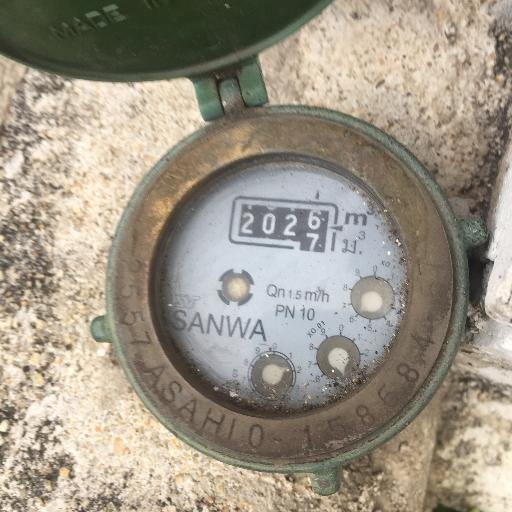0: (257, 205, 283, 240)
2: (279, 207, 303, 241), (239, 203, 262, 237)
6: (300, 208, 329, 252)
border_water_meter_number: (229, 195, 340, 253)
